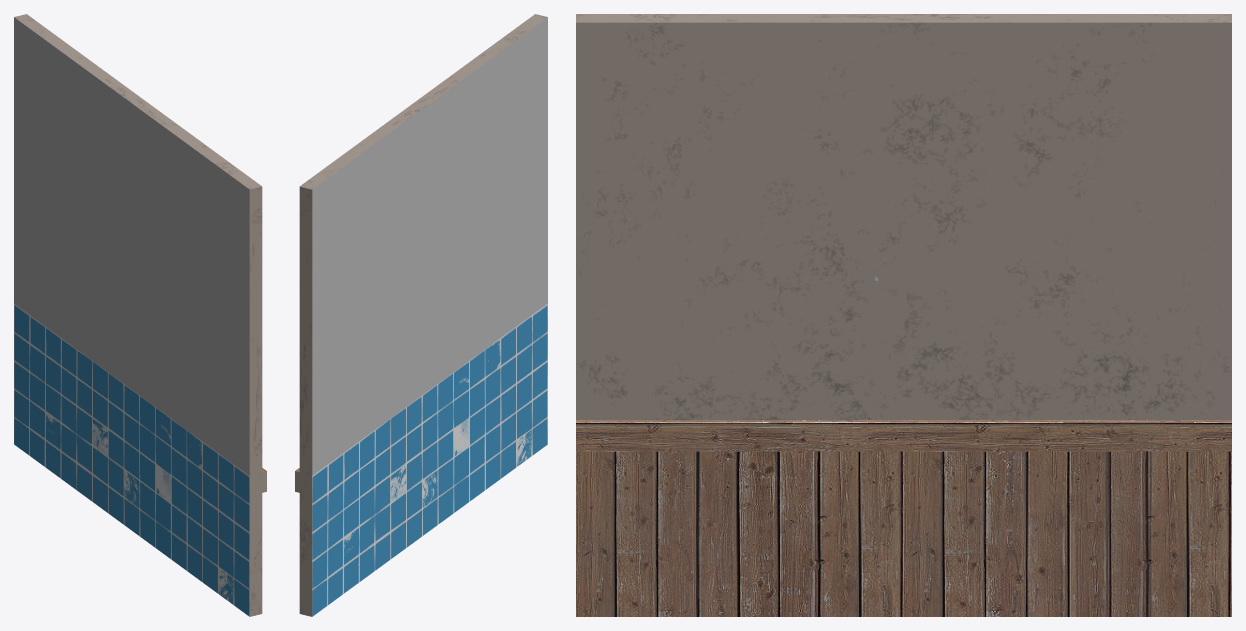
File: WallHalfWood.fbx
The picture shows the model from 3 angles, left to right: view 1: azimuth 30°, elevation 25°; view 2: azimuth 150°, elevation 25°; view 3: azimuth 270°, elevation 25°; orthographic projection. The views are drawn at different scales.
Parts seen in each view (by area): view 1: Cube; view 2: Cube; view 3: Cube.
Part boxes in pixels (x1,y1,x2,y2): Cube: [14, 14, 266, 616]; Cube: [295, 14, 547, 616]; Cube: [576, 14, 1231, 616].
Size of the model in its own units: 16.85 by 400 by 400.
